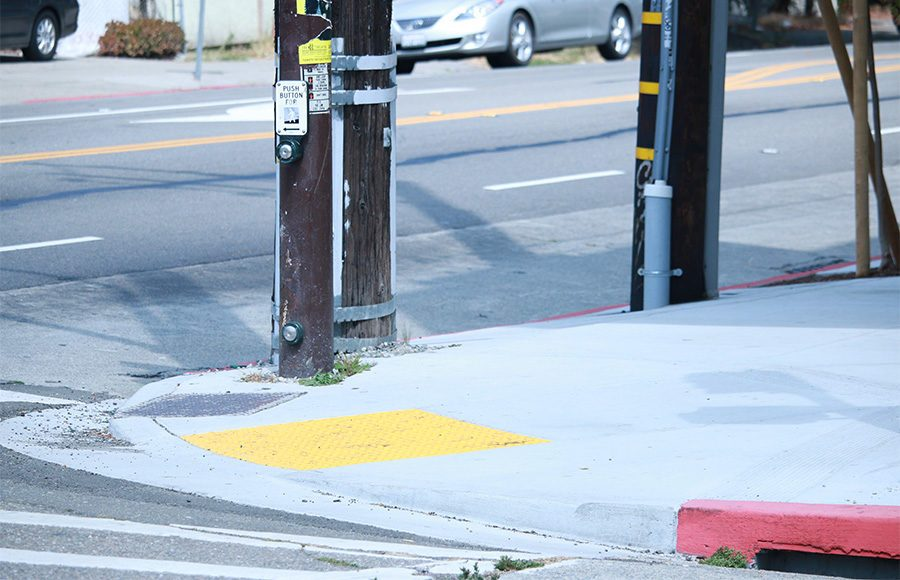ramp: (84, 335, 587, 538)
